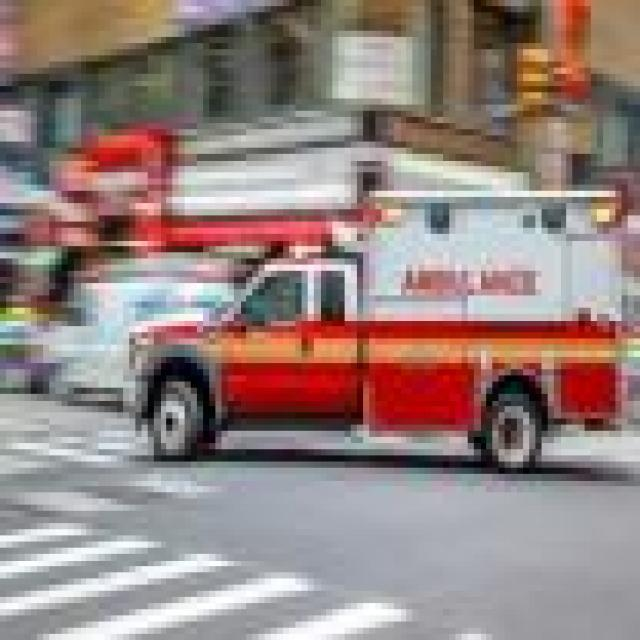emergency-vehicle: (108, 169, 630, 471)
